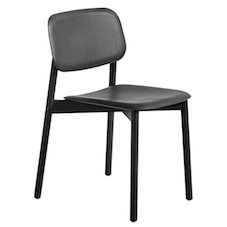chair: (36, 4, 204, 217)
